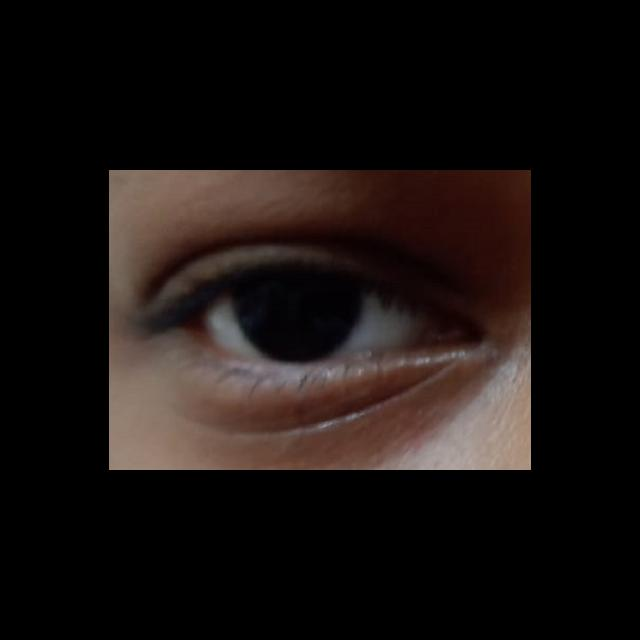eye: (206, 273, 429, 364)
iris: (236, 274, 362, 362)
